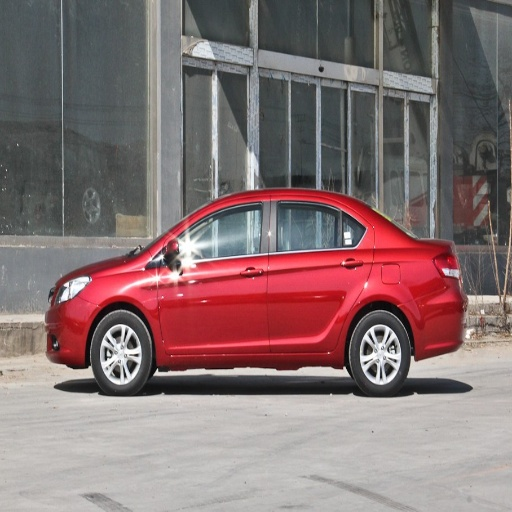back_left_door: (271, 198, 370, 352)
front_left_door: (157, 198, 270, 354)
